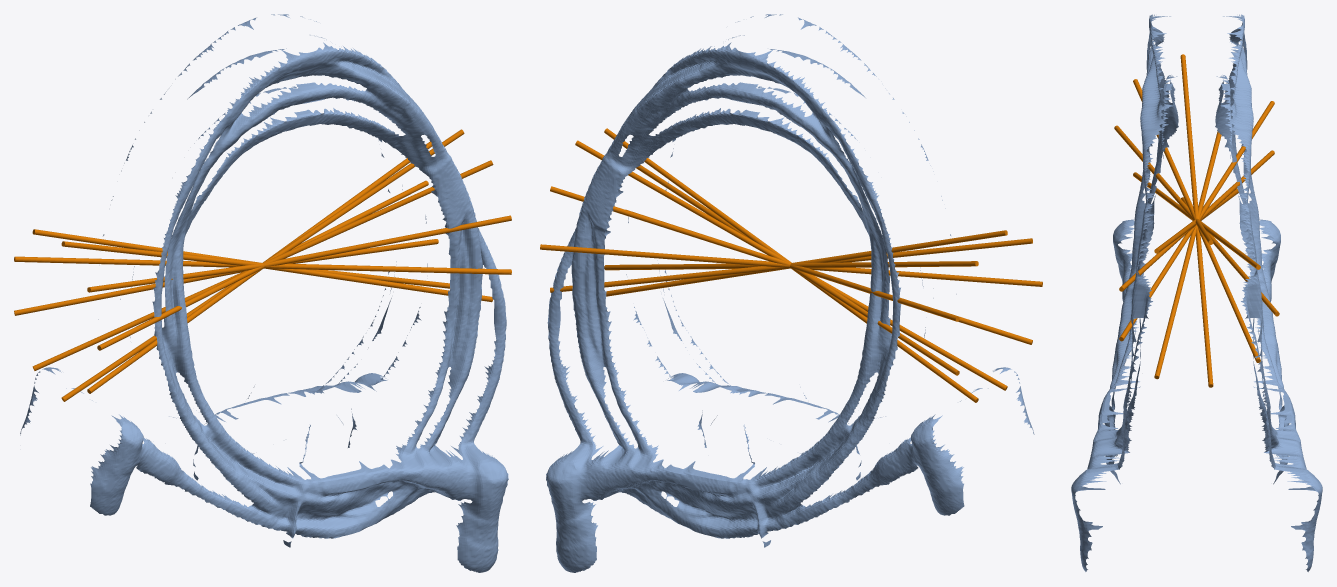
The model's file is A20023520_6145-37-528-7085_DigitalTwin.glb.
3 views of the same model, side by side, from view 1: azimuth 30°, elevation 25°; view 2: azimuth 150°, elevation 25°; view 3: azimuth 270°, elevation 25° (orthographic). The views are drawn at different scales.
Visible parts, largest first — view 1: world; view 2: world; view 3: world.
Part boxes in pixels (x1,y1,x2,y2): world: (14,14,511,572); world: (540,14,1042,572); world: (1071,14,1322,571).
Size of the model in its own units: 360 by 436 by 204.
